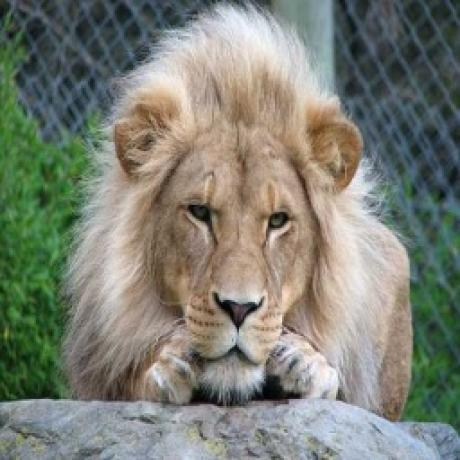Lion: (61, 0, 412, 409)
